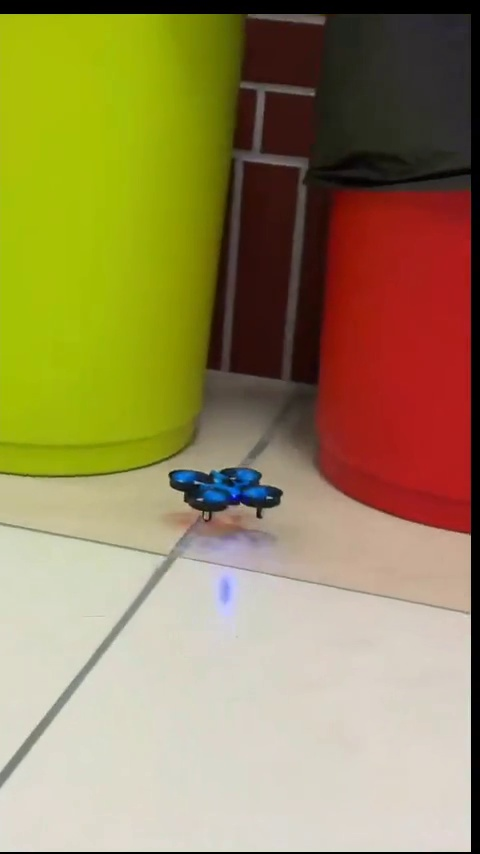drone: (169, 471, 283, 525)
